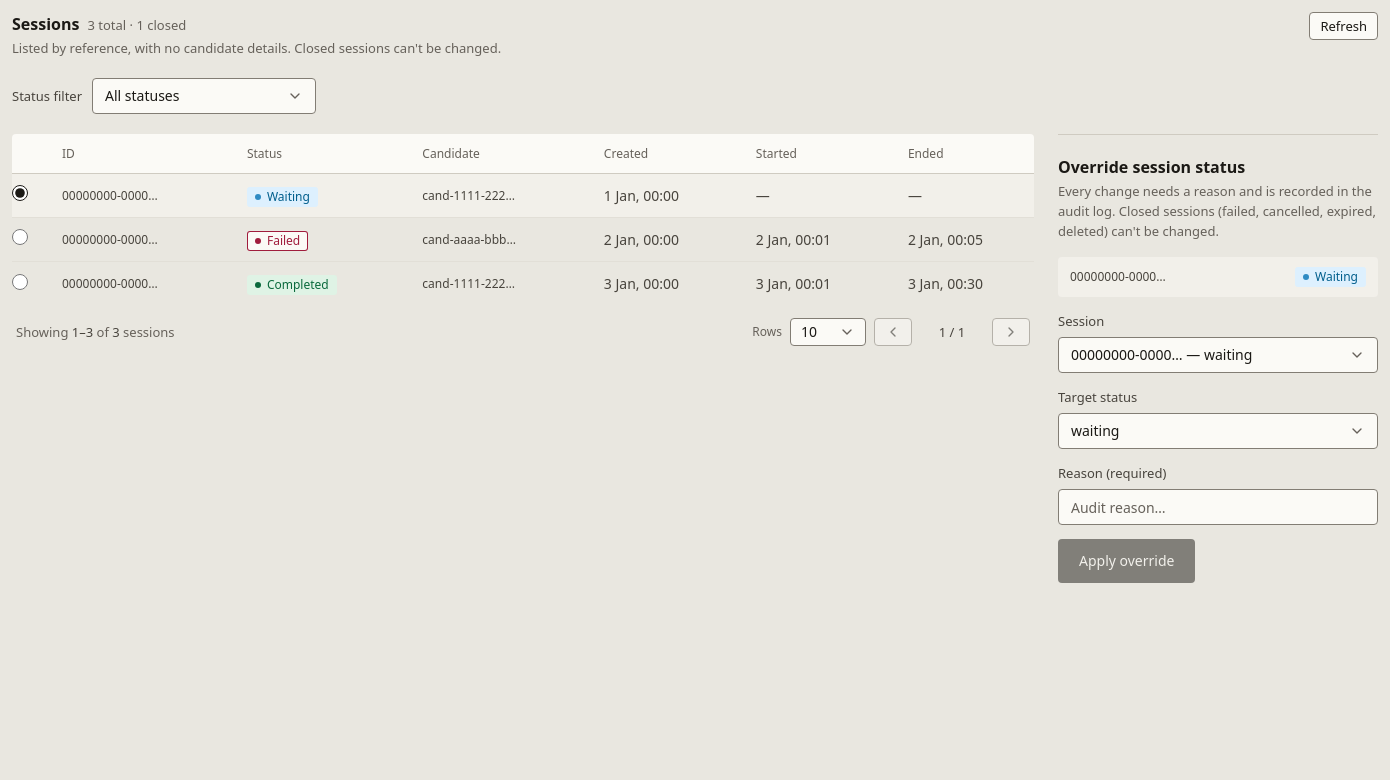
Scenario: SessionsSection › is not optimistic: no confirmation message while the override is pending
Expected: the heading "Override session status" is shown, 1058,155 -> 1245,179
Type "reason" into the field labelled "Reason (required)" at (1218, 507), box 1058,489 -> 1378,525
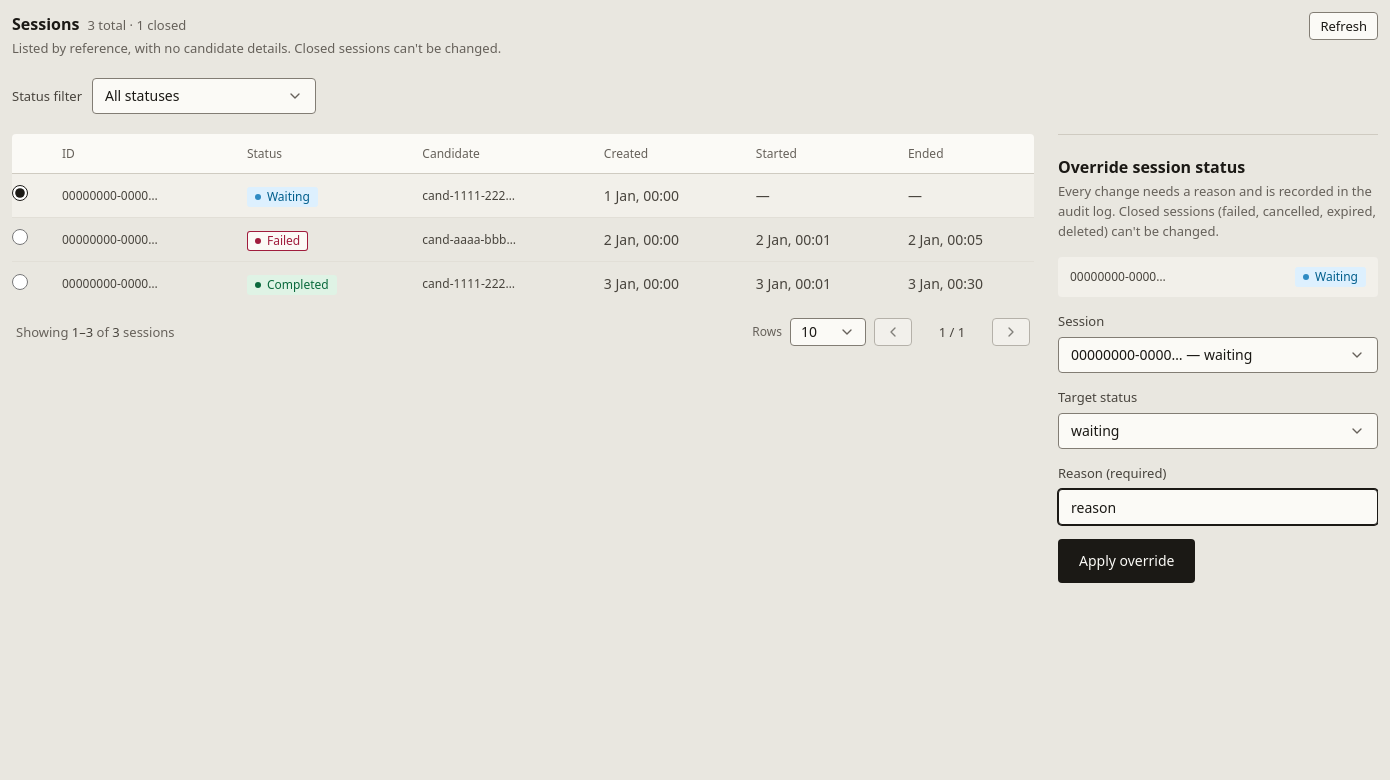
Click the button "Apply override" at (1127, 561), box 1058,539 -> 1196,583
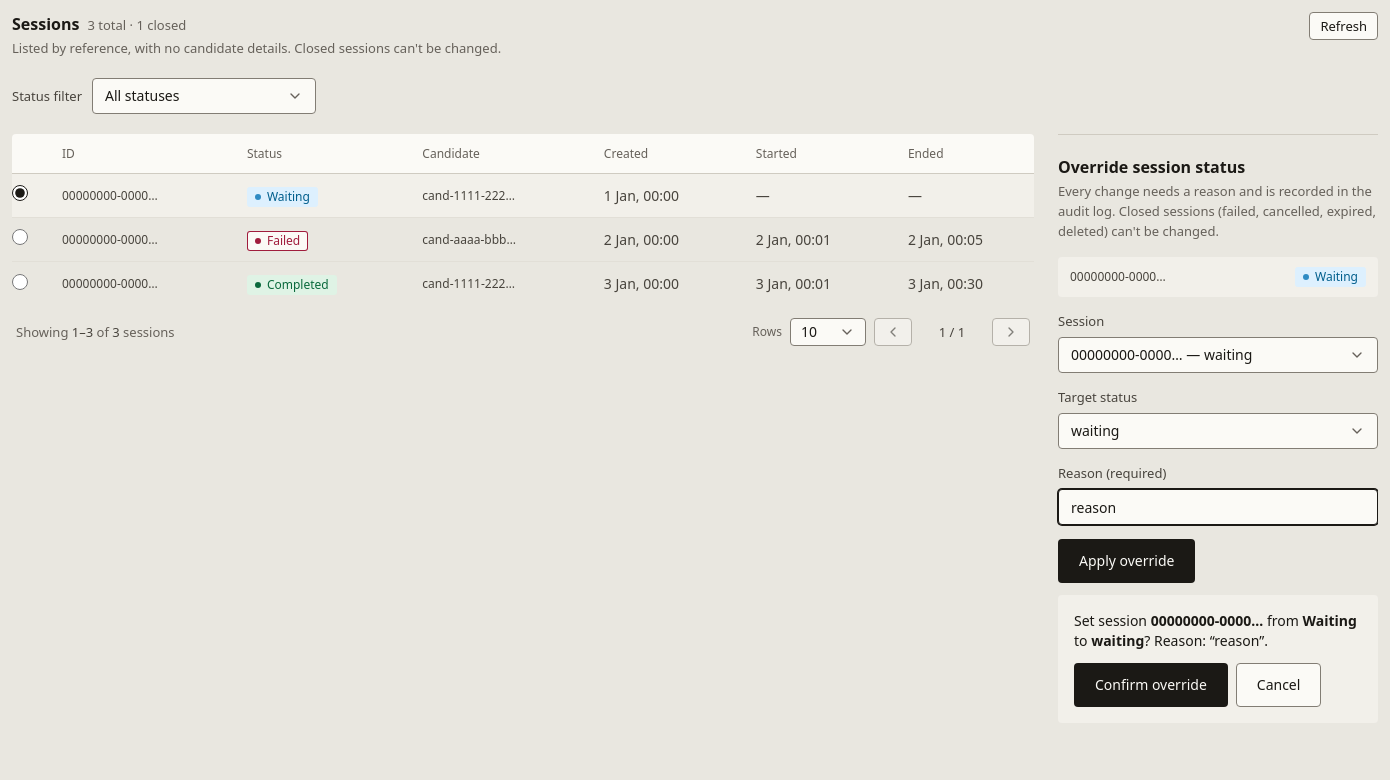
Click the button "Confirm override" at (1151, 685), box 1074,663 -> 1228,707
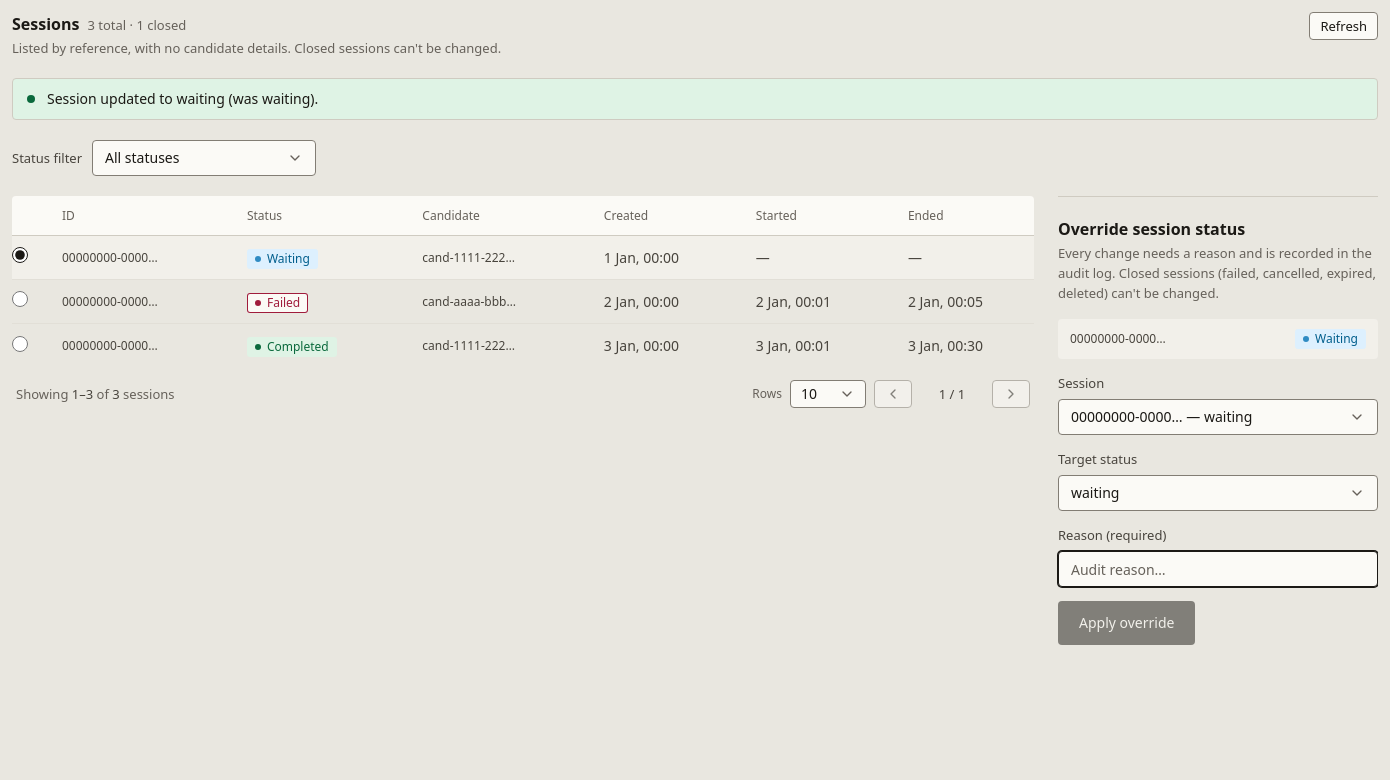
Expected: the text "Session updated to waiting (was waiting)." is shown, 47,89 -> 318,108
